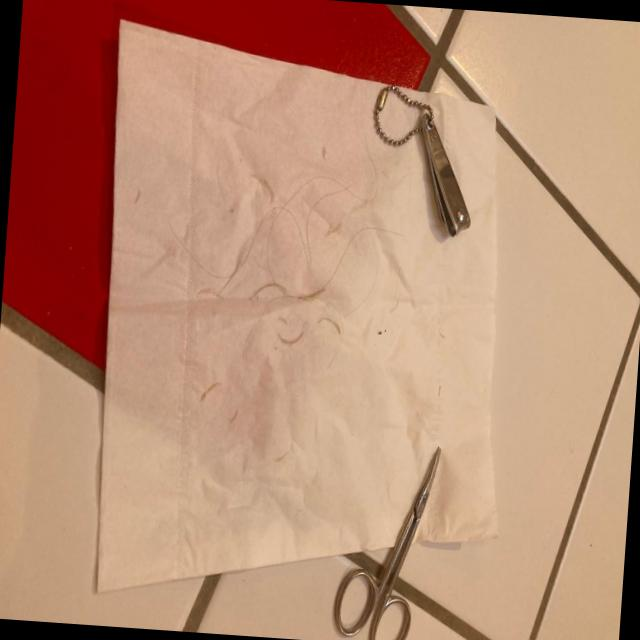organic waste: (75, 16, 532, 628)
